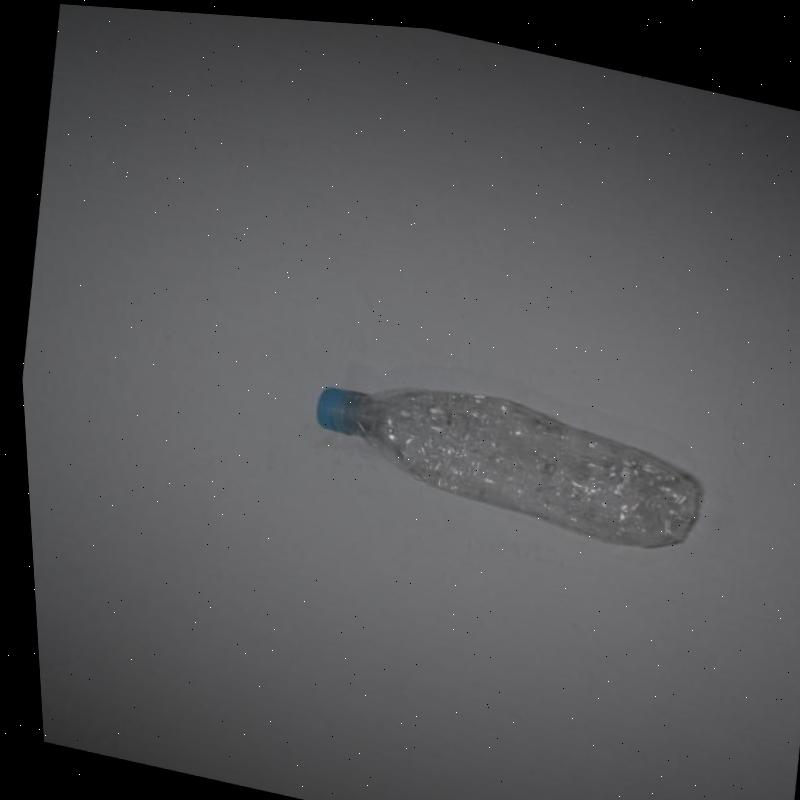botella: (296, 354, 707, 554)
